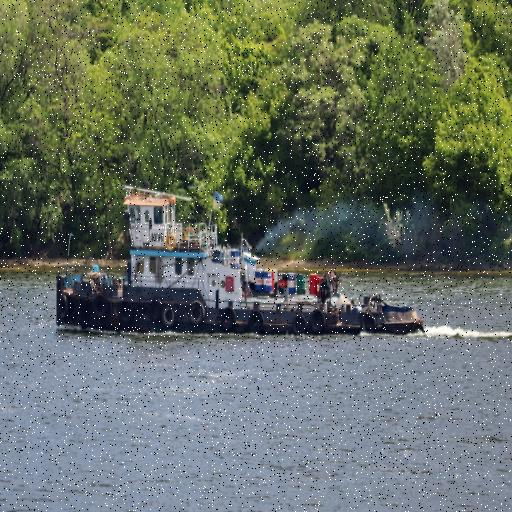tugboat: (54, 183, 430, 351)
